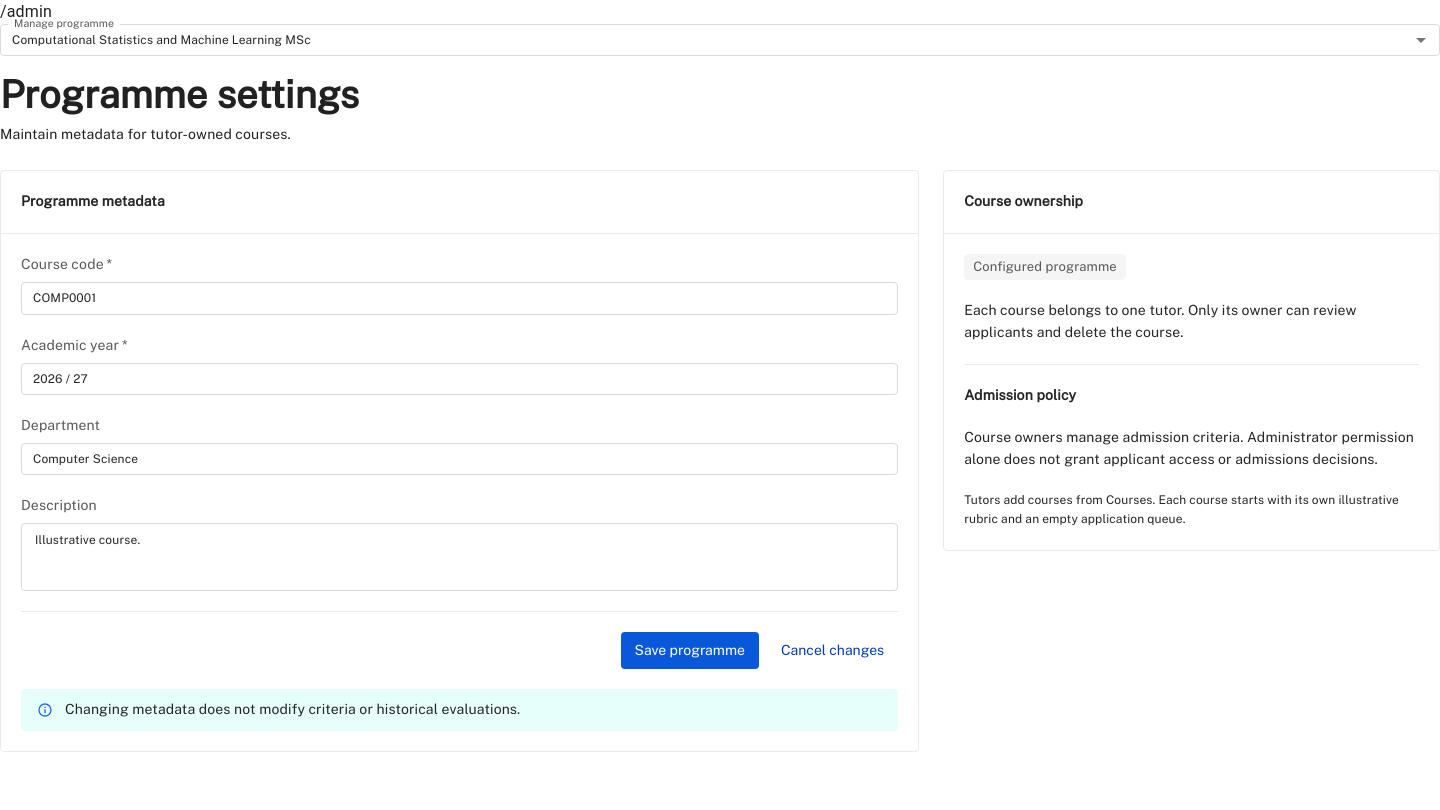
it: programme settings › saves course metadata and can cancel unsaved changes
The image size is (1440, 810).
Replace the text in the field labelled "Course code *" with "COMP0009". click: (460, 298)
box: [21, 282, 898, 315]
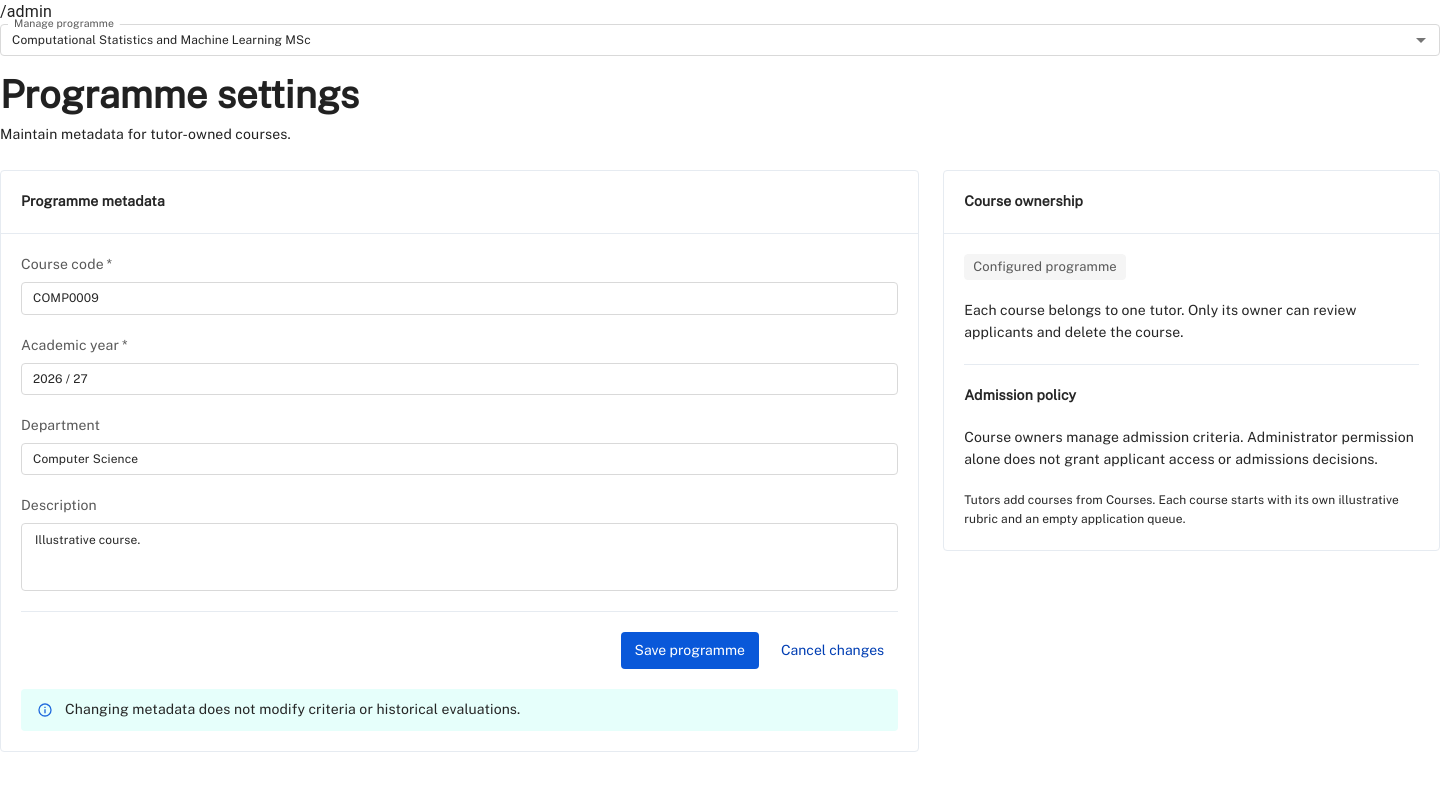
Click the button "Cancel changes". click: (833, 651)
box: [767, 632, 898, 669]
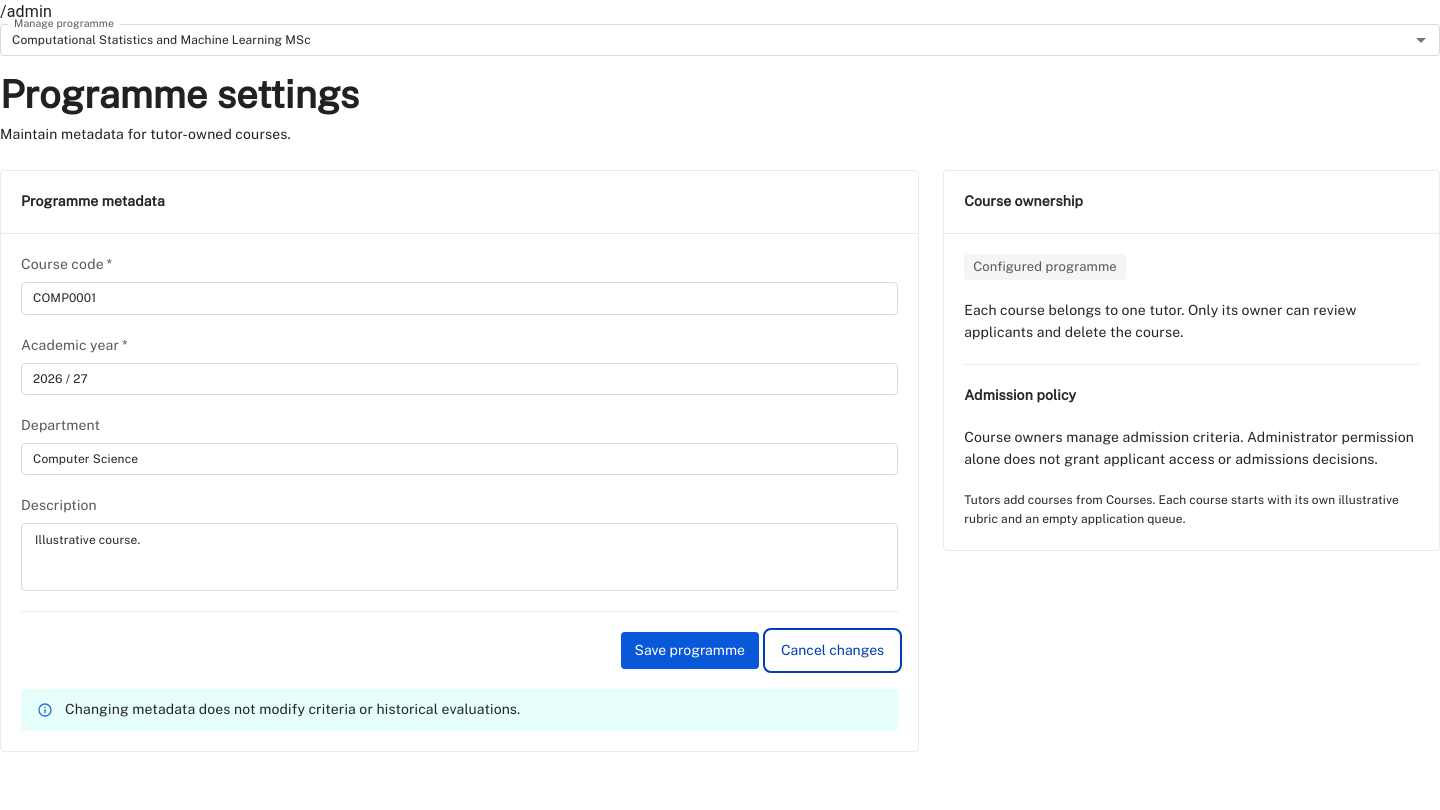
Check: the field labelled "Course code *" holds "COMP0001"
Replace the text in the field labelled "Course code *" with "COMP0009". click: (460, 298)
box: [21, 282, 898, 315]
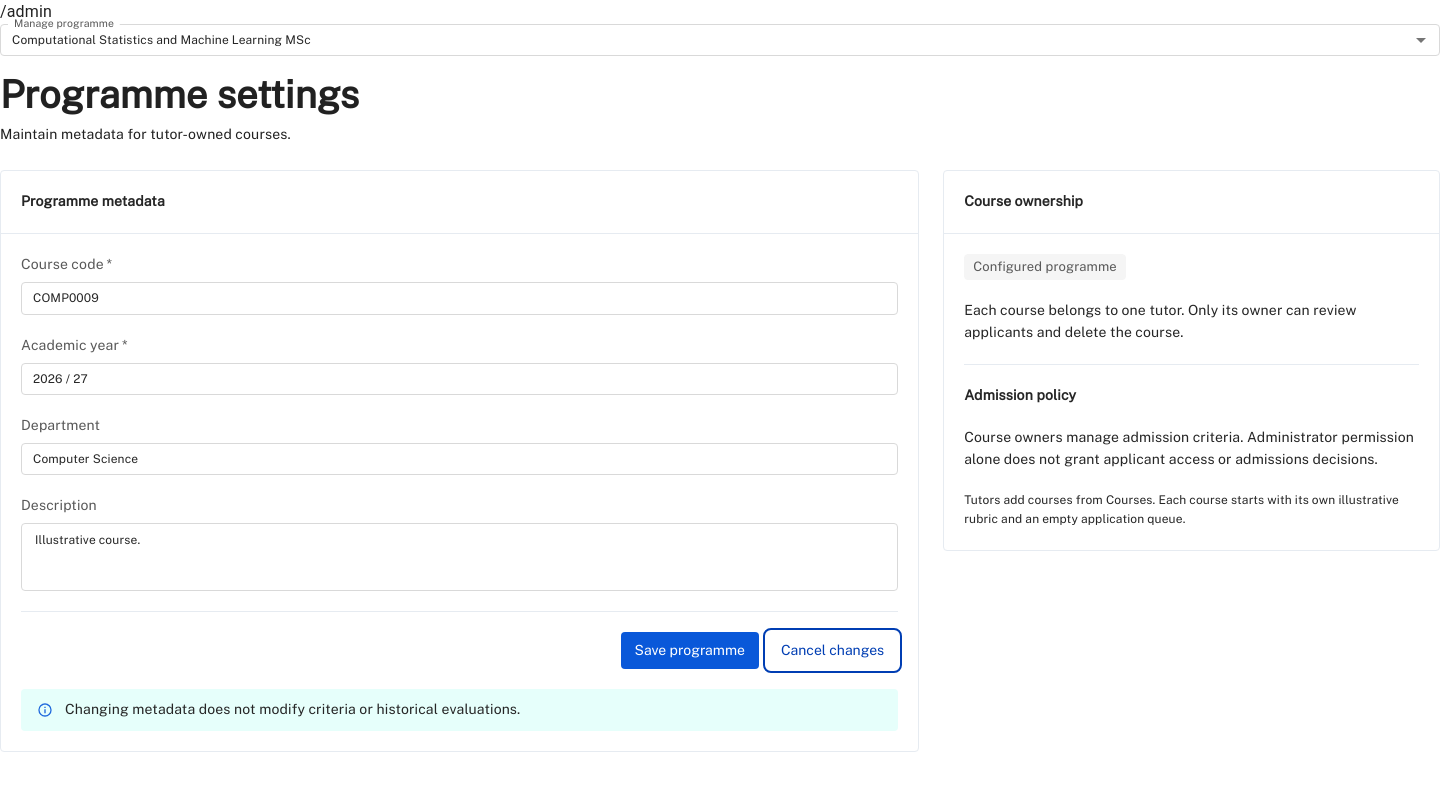
Click the button "Save programme". click: (690, 651)
box: [621, 632, 759, 669]
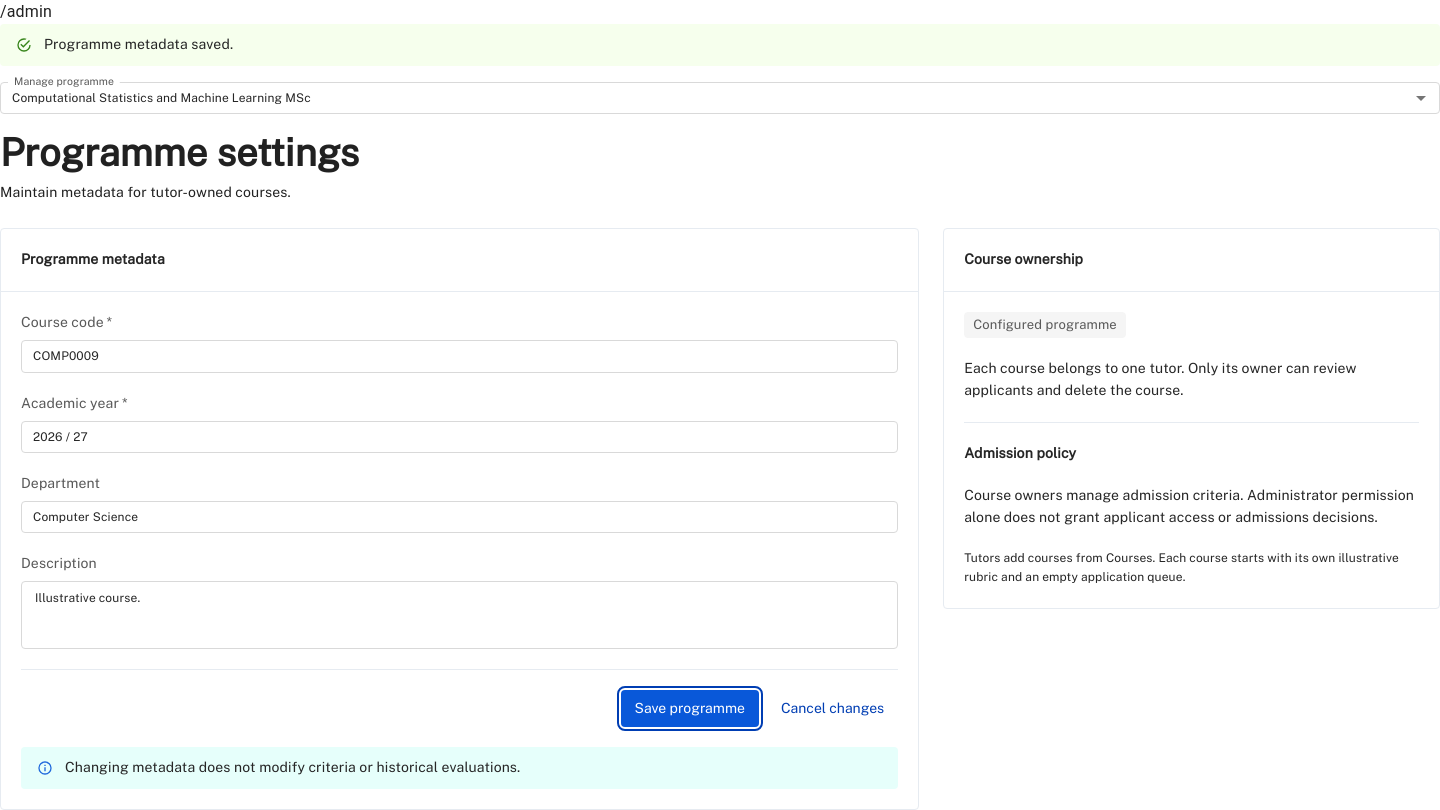
Check: the text "Programme metadata saved." is shown, box [44, 36, 233, 52]
